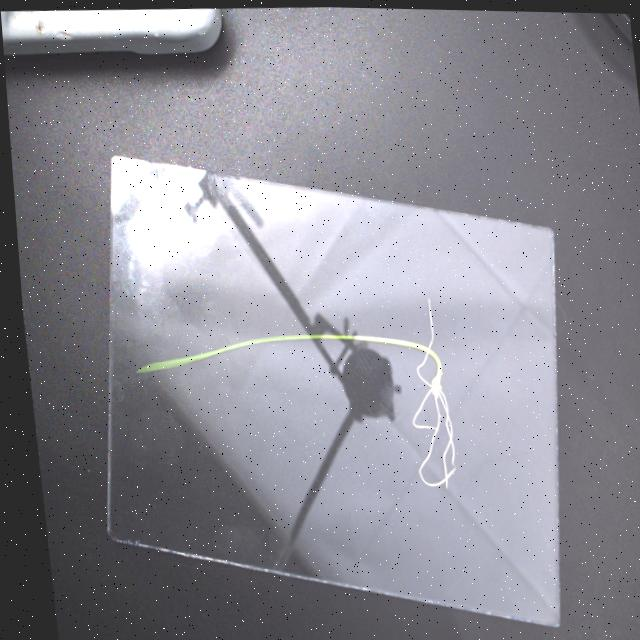leaf: (134, 329, 353, 375)
root: (410, 296, 460, 487)
steb: (351, 331, 447, 384)
